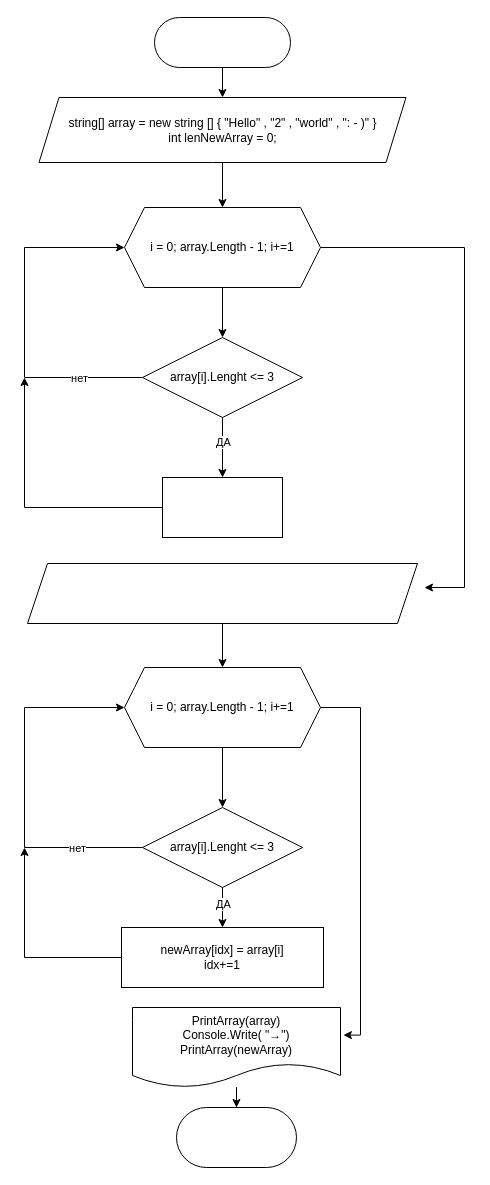
Image size: 490x1185. Some labels were removed from this diagram. Each missing label, with the centre of its shape:
end: [236,1137]
lenNewArray+=1: [222,507]
start: [222,42]
string [] newArray = new string[lenNewArray] int ind = 0:: [222,593]
